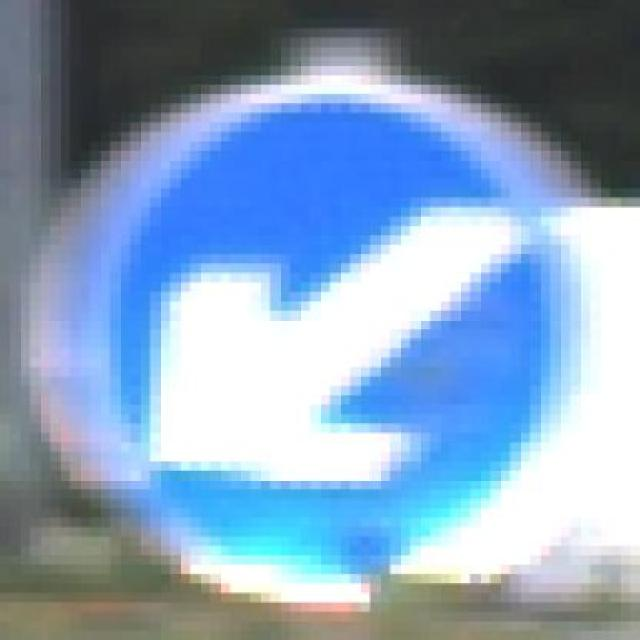Keep-Left: (40, 47, 600, 621)
